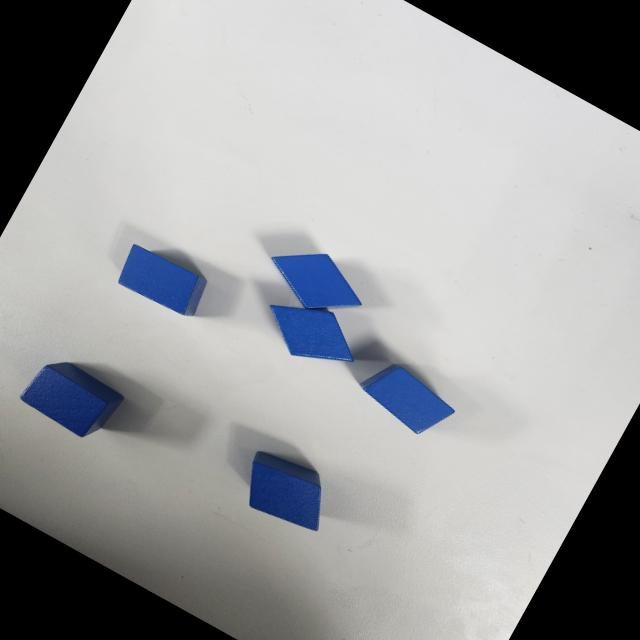blue: (256, 230, 376, 332), (252, 282, 371, 384), (230, 440, 343, 542), (17, 350, 127, 448), (351, 352, 463, 447), (110, 240, 210, 324)
